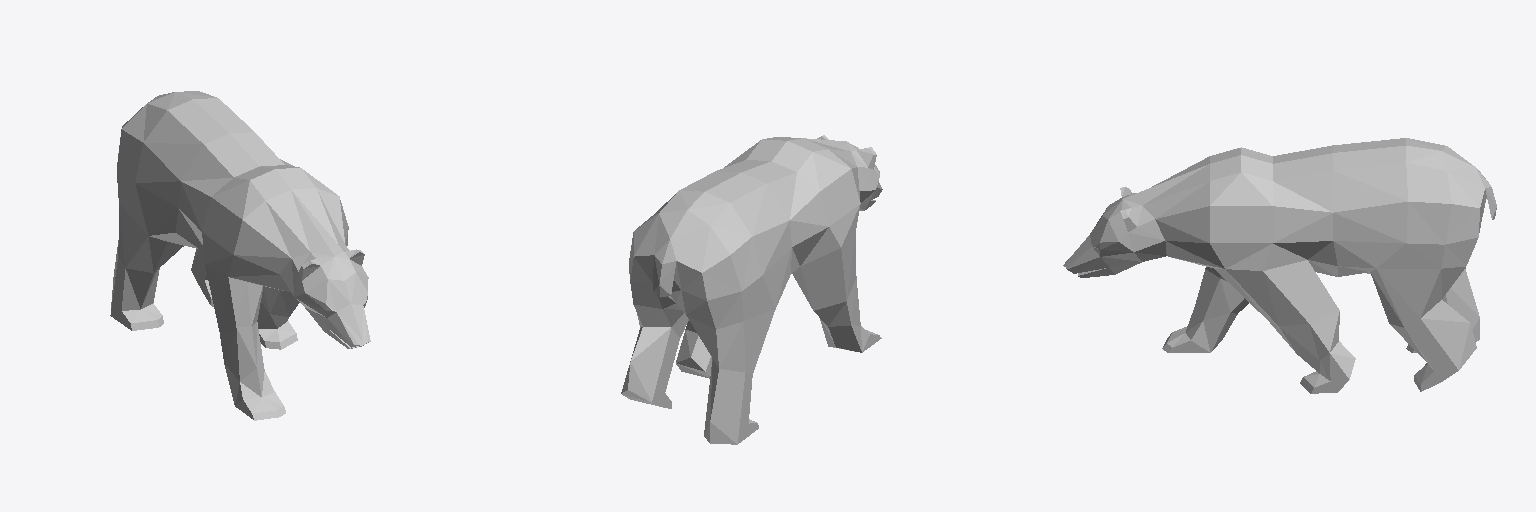
The model's file is polar_bear.obj.
The picture shows the model from 3 angles: view 1: azimuth 30°, elevation 25°; view 2: azimuth 150°, elevation 25°; view 3: azimuth 270°, elevation 25°; orthographic projection.
Parts seen in each view (by area): view 1: BaseMesh_Untitled; view 2: BaseMesh_Untitled; view 3: BaseMesh_Untitled.
Part boxes in pixels (x1,y1,x2,y2): BaseMesh_Untitled: (110, 91, 370, 420); BaseMesh_Untitled: (621, 135, 882, 444); BaseMesh_Untitled: (1063, 138, 1496, 393).
Bounding box in the file's own units: 6.17 × 10.49 × 18.68.